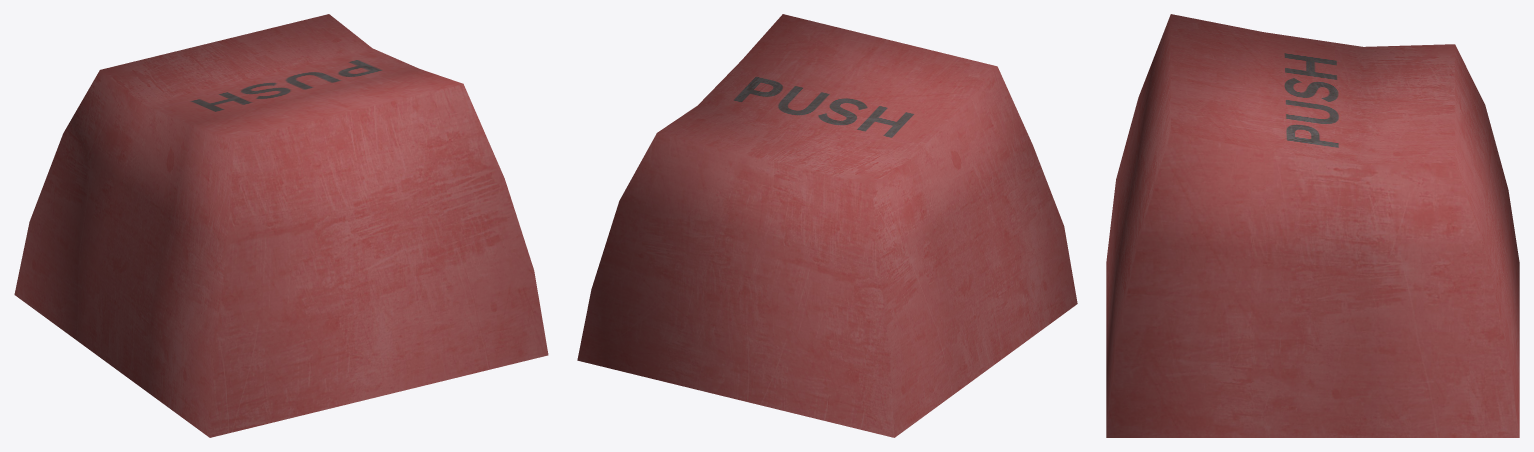
File: sa_keycap-7deg.glb
The picture shows the model from 3 angles, left to right: view 1: azimuth 30°, elevation 25°; view 2: azimuth 150°, elevation 25°; view 3: azimuth 270°, elevation 25°; orthographic projection. The views are drawn at different scales.
Parts seen in each view (by area): view 1: sa_low; view 2: sa_low; view 3: sa_low.
Boxes of the visible parts, box(x1,y1,x2,y2) form: sa_low: box(14, 14, 548, 437); sa_low: box(577, 14, 1077, 437); sa_low: box(1106, 14, 1519, 437).
Size of the model in its own units: 0.7764 by 0.5752 by 0.7764.
1 material, 1 textured.
